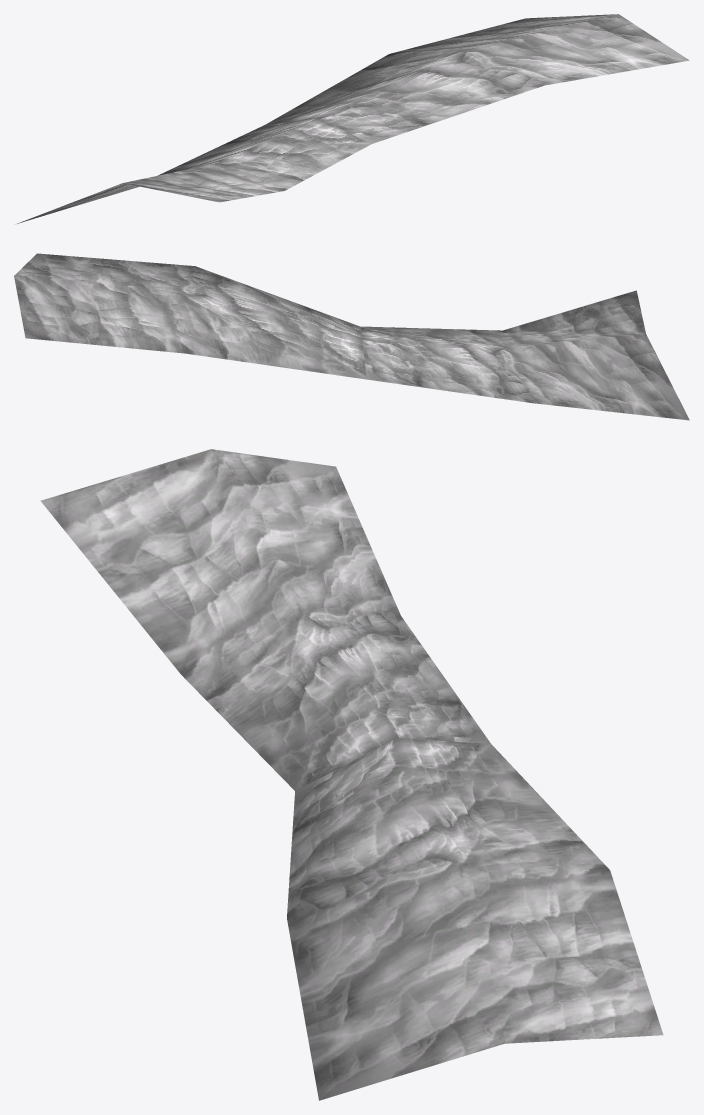
The model's file is SWORDLIGHT20_PS-AREA03_44.fbx.
3 renders of one model, top to bottom at view 1: azimuth 30°, elevation 25°; view 2: azimuth 150°, elevation 25°; view 3: azimuth 270°, elevation 25°, orthographic. The views are drawn at different scales.
Visible parts, largest first — view 1: SWORDLIGHT20_PS-AREA03_44; view 2: SWORDLIGHT20_PS-AREA03_44; view 3: SWORDLIGHT20_PS-AREA03_44.
Boxes of the visible parts, x1=… form: SWORDLIGHT20_PS-AREA03_44: x1=17, y1=14, x2=689, y2=223; SWORDLIGHT20_PS-AREA03_44: x1=14, y1=253, x2=689, y2=420; SWORDLIGHT20_PS-AREA03_44: x1=40, y1=449, x2=663, y2=1100.
Size of the model in its own units: 176206 by 12997 by 72347.
Materials: 1 (1 with a texture image).
